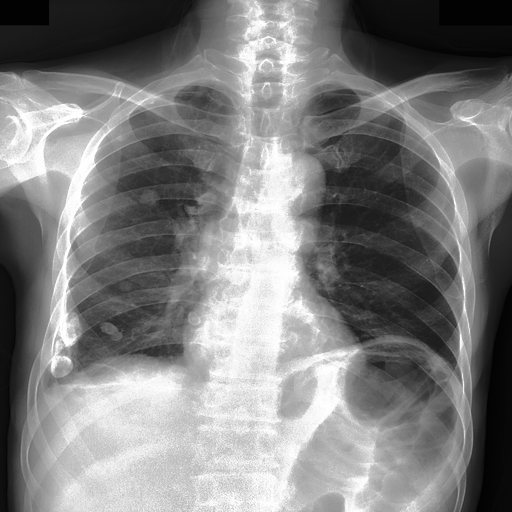Calcification: (33, 371, 69, 402)
Lung Opacity: (50, 306, 81, 377)
Other lesion: (356, 324, 465, 387)
Pleural effusion: (30, 348, 88, 408)
Pulmonary fibrosis: (59, 312, 82, 345), (50, 358, 72, 379), (100, 322, 123, 341), (142, 188, 161, 208), (115, 124, 136, 141), (188, 310, 202, 326), (118, 281, 134, 291), (362, 310, 374, 318)
